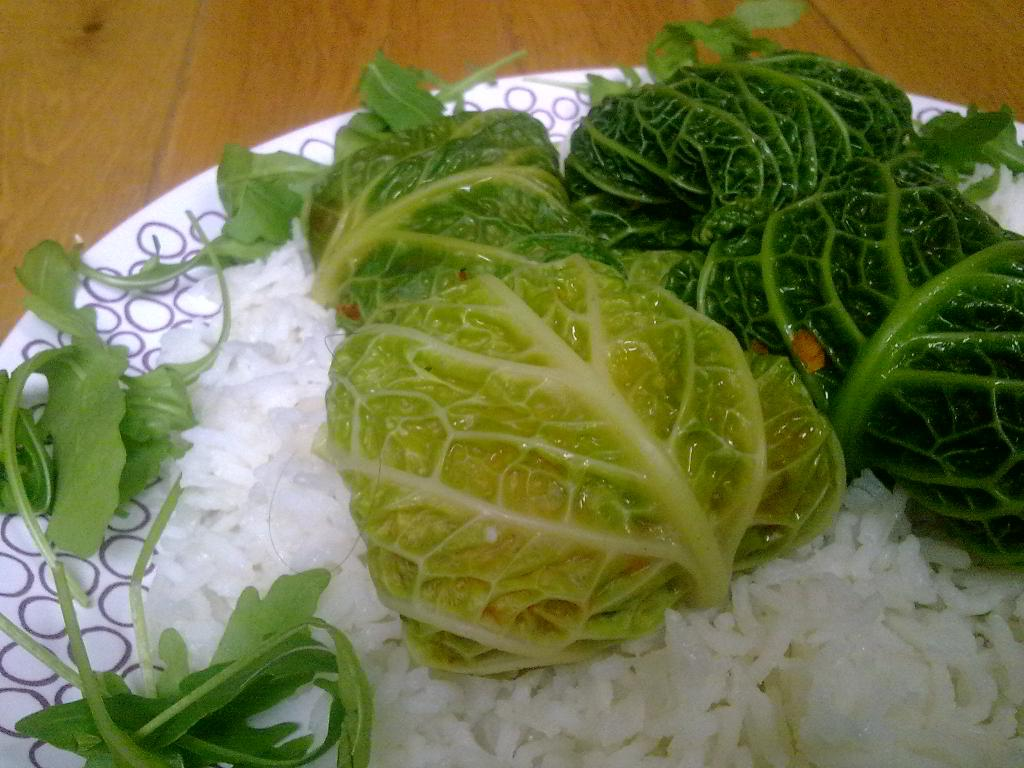Cabbage: (306, 51, 1024, 679)
